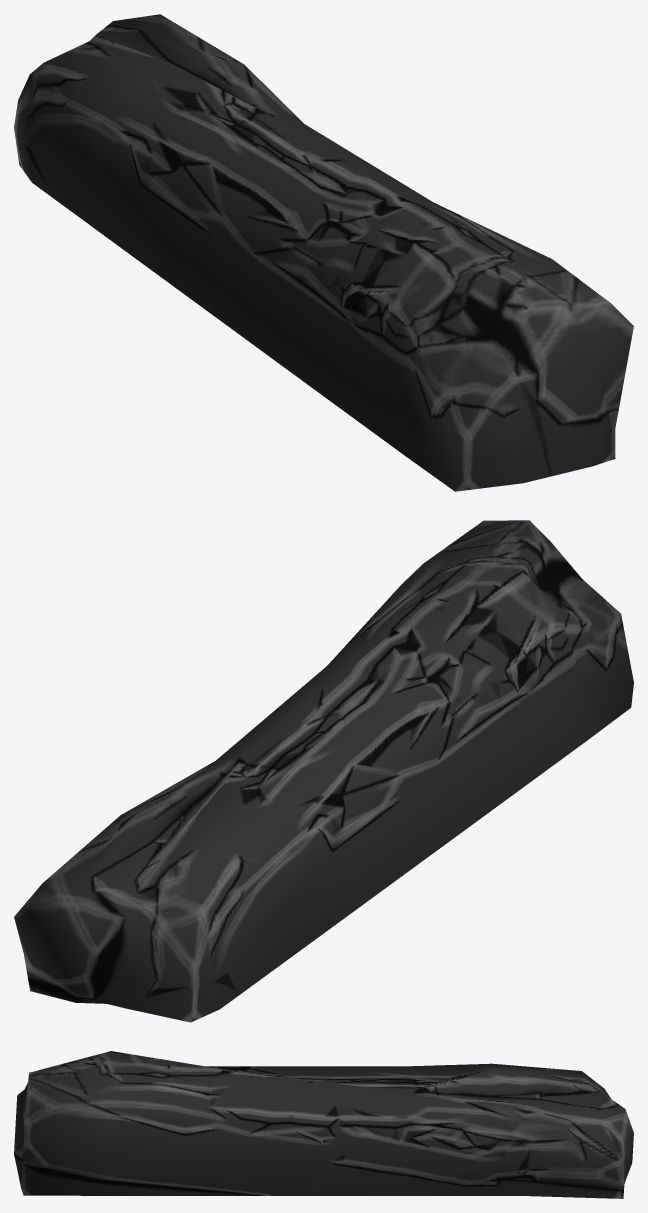
The model's file is roks.002.fbx.
3 renders of one model, top to bottom at view 1: azimuth 30°, elevation 25°; view 2: azimuth 150°, elevation 25°; view 3: azimuth 270°, elevation 25°, orthographic. The views are drawn at different scales.
Visible parts, largest first — view 1: roks.002; view 2: roks.002; view 3: roks.002.
Boxes of the visible parts, left/top/right/bottom form: roks.002: left=14, top=14, right=633, bottom=491; roks.002: left=14, top=520, right=633, bottom=1022; roks.002: left=14, top=1051, right=633, bottom=1198.
Size of the model in its own units: 0.58 by 0.5088 by 2.56.
